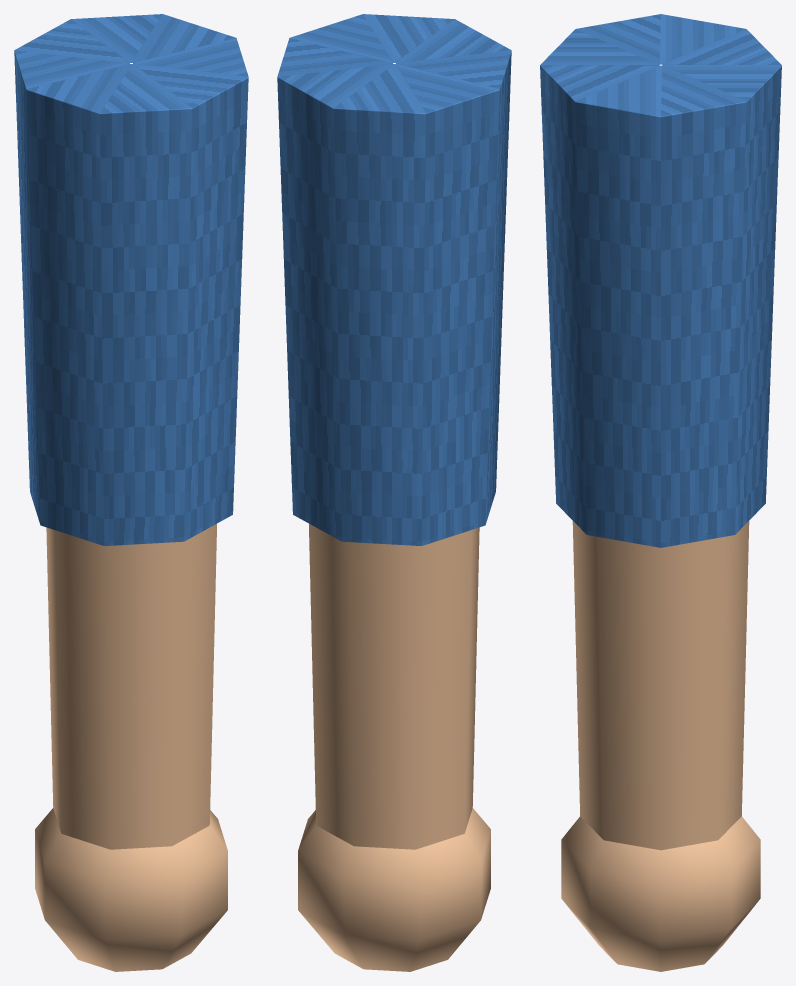
The model's file is farmer-arm.gltf.
3 renders of one model, left to right at view 1: azimuth 30°, elevation 25°; view 2: azimuth 150°, elevation 25°; view 3: azimuth 270°, elevation 25°, orthographic.
Size of the model in its own units: 0.15 by 0.615 by 0.15.
2 materials, 1 textured.
